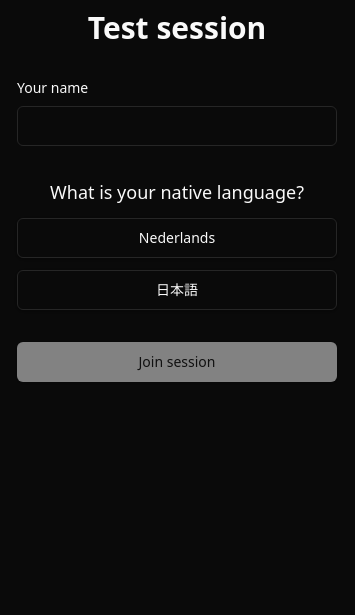
Test: ParticipantJoin guards › shows a friendly message when the display name is taken
The width and height of the screenshot is (355, 615).
Type "Yuki" into the field labelled "Your name" at (177, 126), box 17,106 -> 337,146
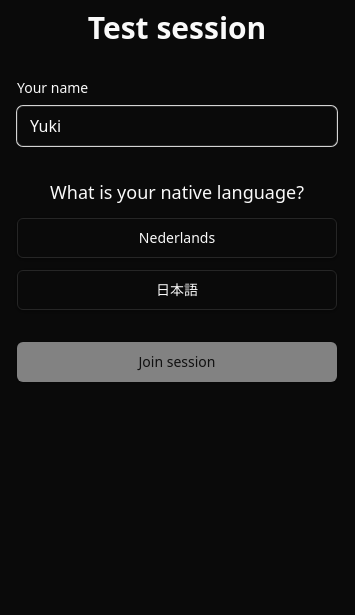
Click the button "日本語" at (177, 290), box 17,270 -> 337,310
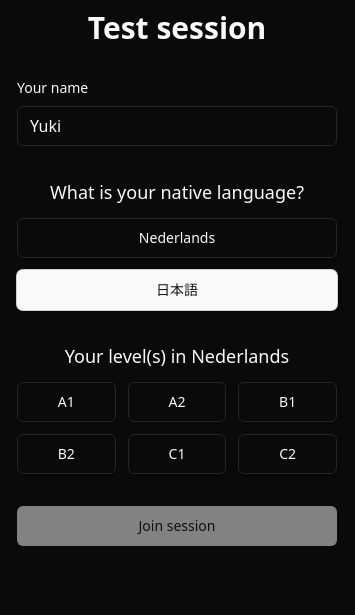
Click the button "B1" at (288, 402), box 238,382 -> 337,422
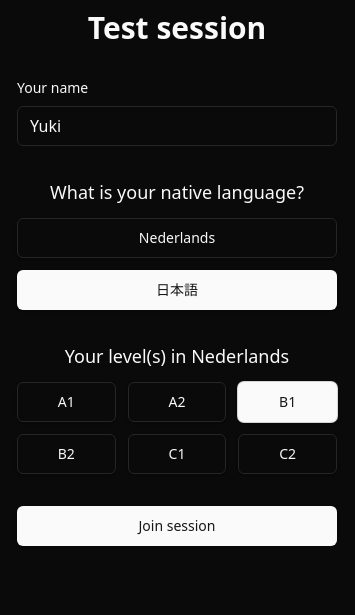
Click the button "Join session" at (177, 526), box 17,506 -> 337,546
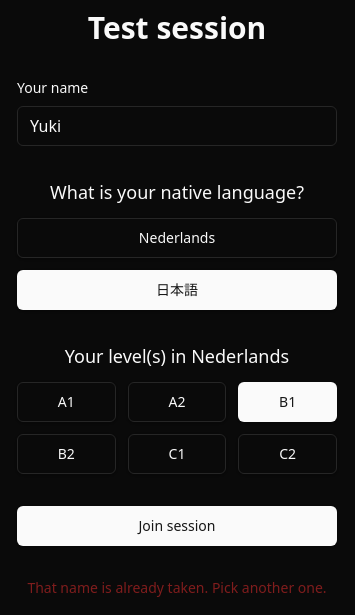
Check: the text "That name is already taken. Pick another one." is shown, box 27,578 -> 327,598
